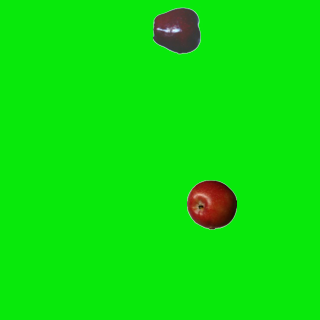Apple Braeburn: (186, 179, 236, 229)
Apple Red Delicious: (152, 5, 202, 55)
